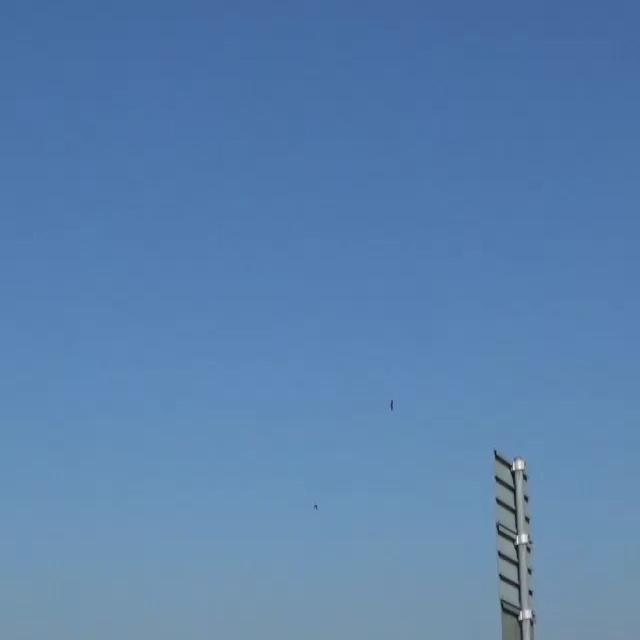bird: (386, 396, 399, 416), (309, 500, 322, 515)
